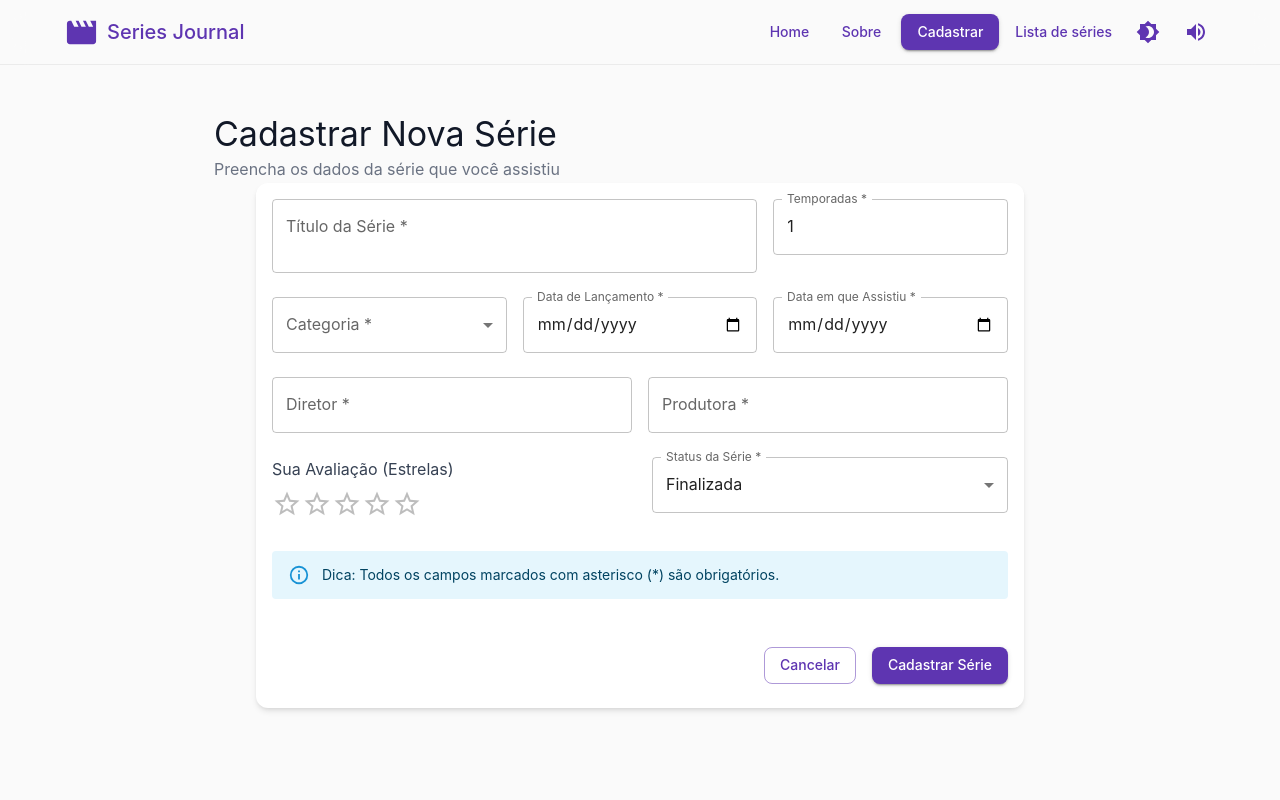
Test: Series Journal E2E Tests › deve preencher o formulário usando o Autocomplete do TVmaze
// Digita e busca no autocomplete
Type "Breaking" into the field named "title" at (515, 236), box [281, 208, 748, 264]
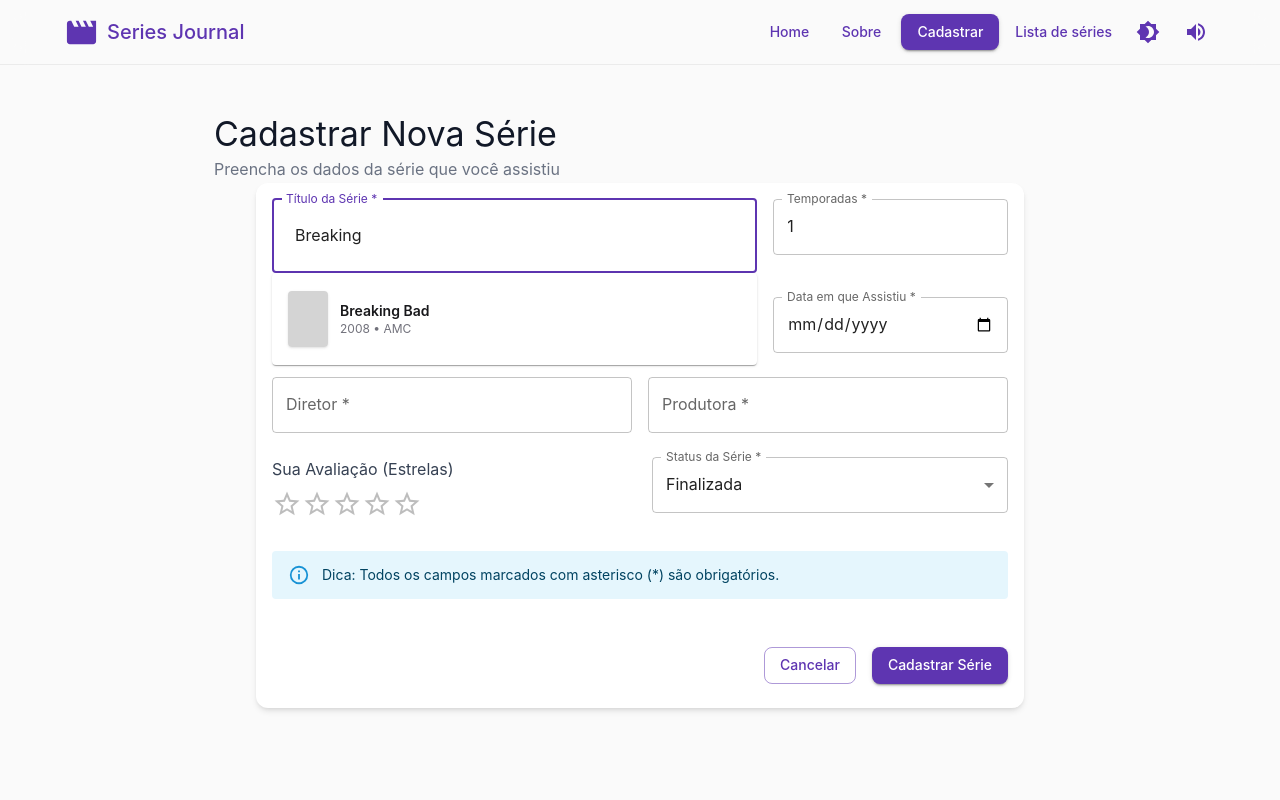
// Clica no item sugerido da lista do Autocomplete
Click the text "Breaking Bad" at (385, 311), box [340, 301, 429, 321]
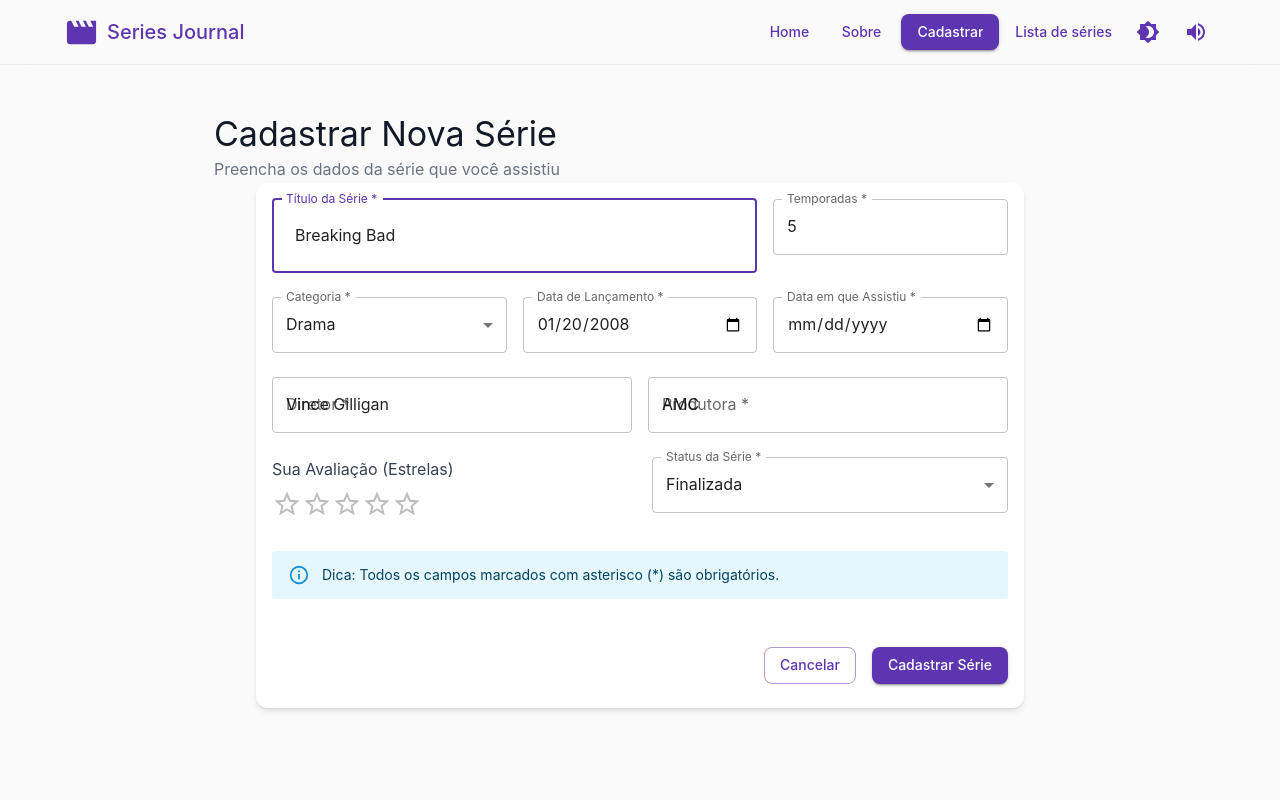
Expected: the field named "title" holds "Breaking Bad", [281, 208, 718, 264]
Expected: the number field named "seasons" holds "5", [773, 199, 1008, 255]
Expected: the date field named "releaseDate" holds "2008-01-20", [523, 297, 758, 353]
